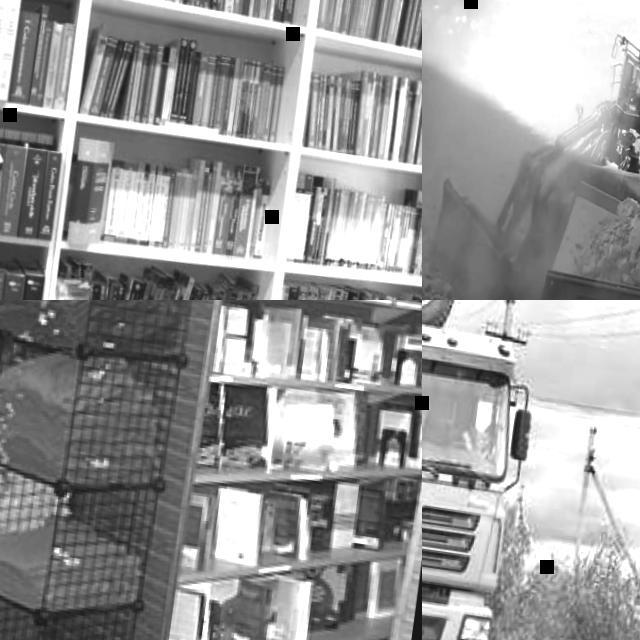vest: (464, 423, 492, 454)
